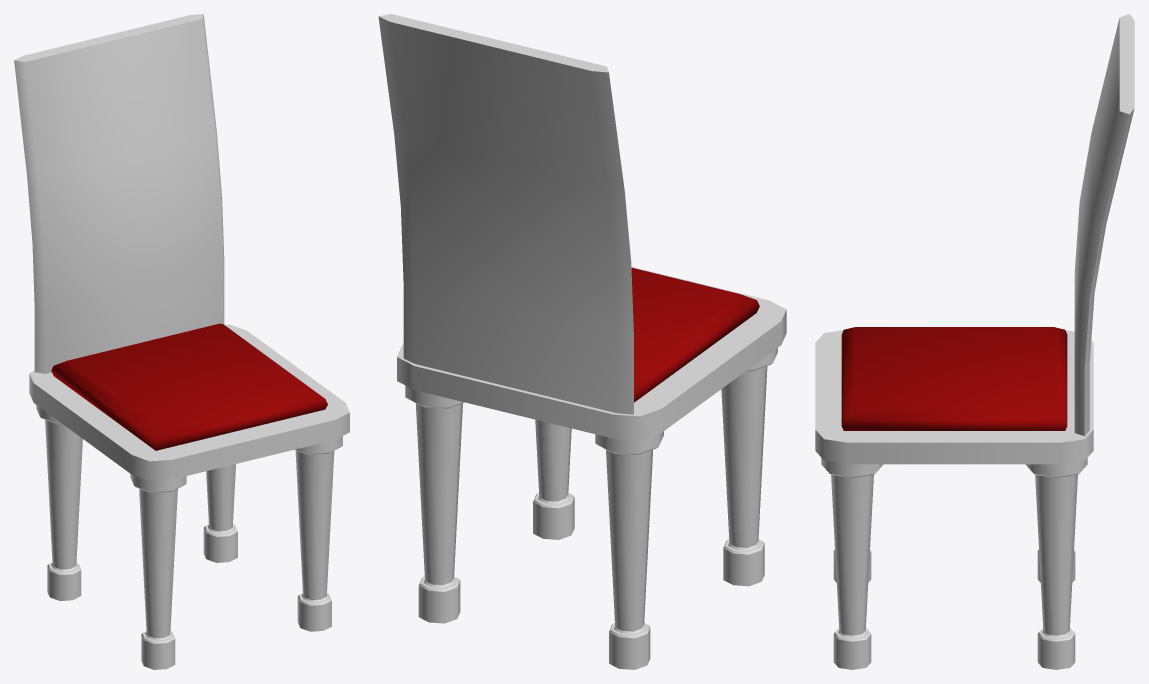
Rendered from Hea_Player_Chair.fbx.
3 views of the same model, side by side, from view 1: azimuth 30°, elevation 25°; view 2: azimuth 150°, elevation 25°; view 3: azimuth 270°, elevation 25° (orthographic). The views are drawn at different scales.
Visible parts, largest first — view 1: Chair.001; view 2: Chair.001; view 3: Chair.001.
Part boxes in pixels (<box>): Chair.001: <box>14,14,349,669</box>; Chair.001: <box>378,14,786,669</box>; Chair.001: <box>815,14,1134,669</box>.
Size of the model in its own units: 44.8 by 103 by 53.42.
